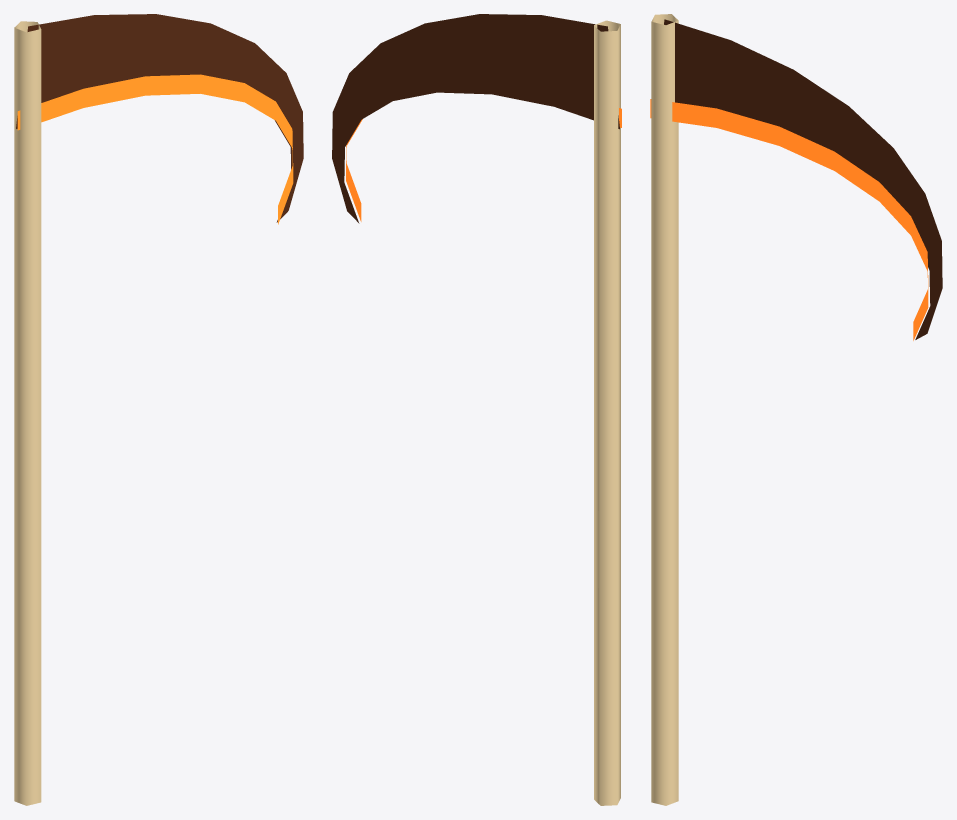
File: cos_scythe.glb
3 views of the same model, side by side, from view 1: azimuth 30°, elevation 25°; view 2: azimuth 150°, elevation 25°; view 3: azimuth 330°, elevation 25° (orthographic).
Visible parts, largest first — view 1: cos_scythe_bonew, cos_scythe_rust, cos_scythe_edge; view 2: cos_scythe_bonew, cos_scythe_rust; view 3: cos_scythe_bonew, cos_scythe_rust, cos_scythe_edge.
Part boxes in pixels (x1,y1,x2,y2): cos_scythe_bonew: (14, 21, 41, 805); cos_scythe_rust: (16, 14, 303, 222); cos_scythe_edge: (17, 74, 293, 224); cos_scythe_bonew: (594, 20, 620, 805); cos_scythe_rust: (332, 14, 619, 223); cos_scythe_bonew: (651, 14, 678, 805); cos_scythe_rust: (664, 19, 942, 339); cos_scythe_edge: (650, 99, 928, 340).
Bounding box in the file's own units: 0.9347 × 2.4 × 0.0724.
